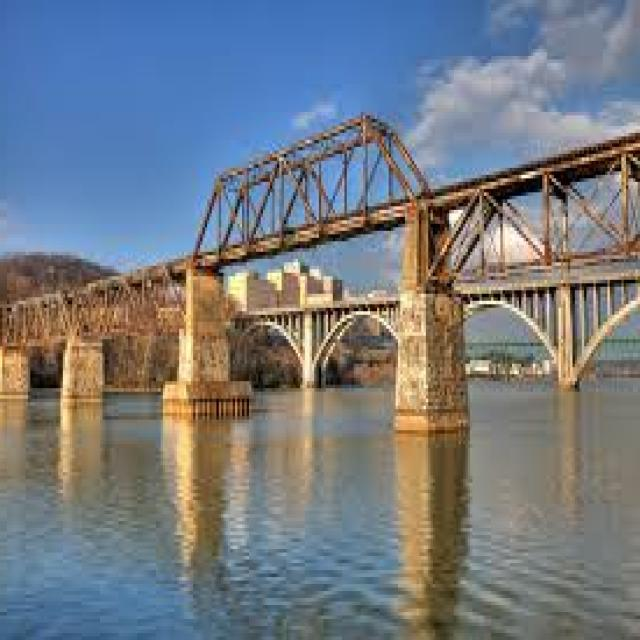Bridges: (0, 51, 634, 445)
